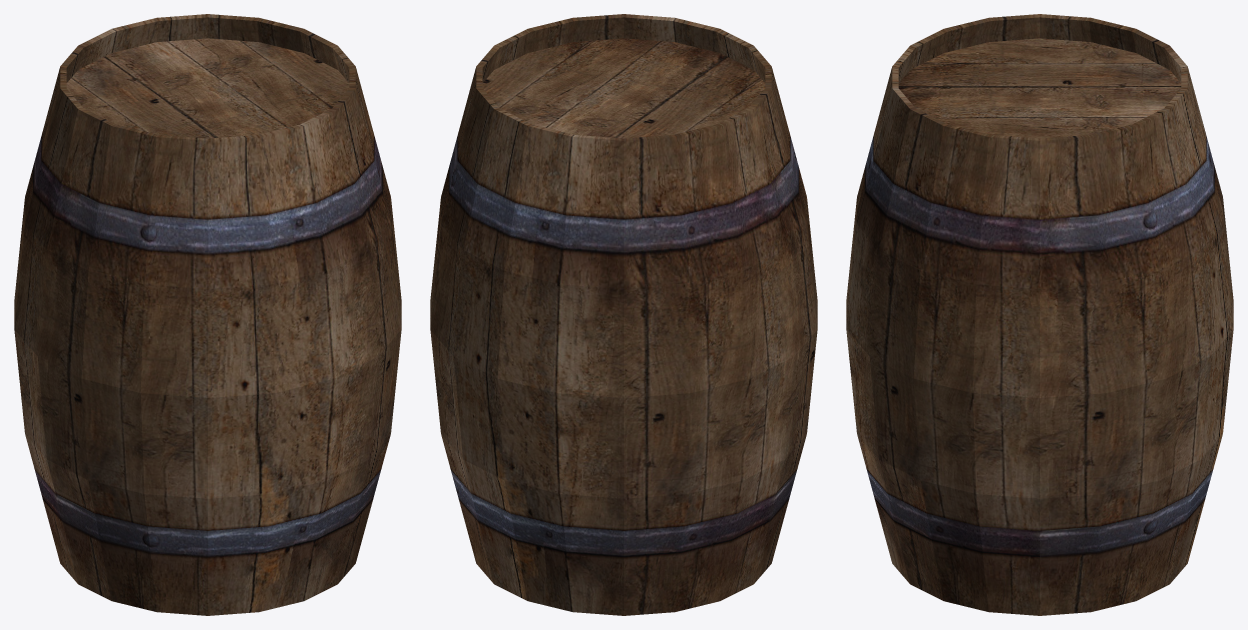
File: barrel.fbx
3 renders of one model, left to right at view 1: azimuth 30°, elevation 25°; view 2: azimuth 150°, elevation 25°; view 3: azimuth 270°, elevation 25°, orthographic.
Visible parts, largest first — view 1: Cylinder00; view 2: Cylinder00; view 3: Cylinder00.
Part boxes in pixels (x1,y1,x2,y2): Cylinder00: (14, 14, 401, 615); Cylinder00: (430, 14, 817, 615); Cylinder00: (846, 14, 1233, 615).
Size of the model in its own units: 23.62 by 31.5 by 23.26.
